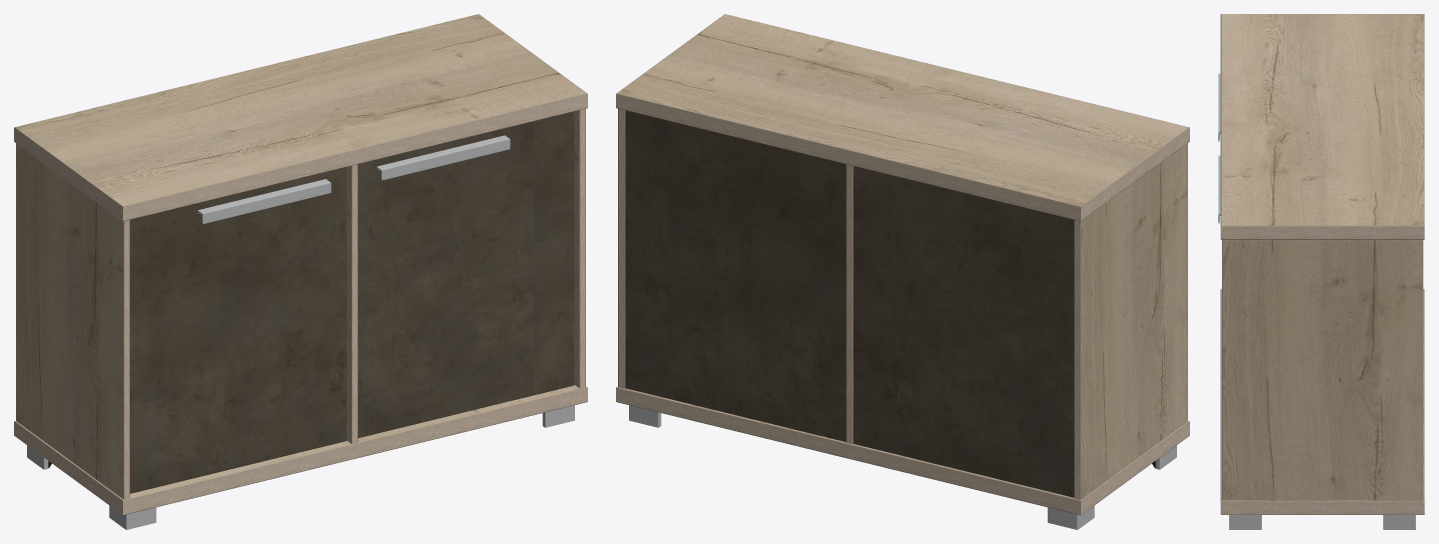
3 views of the same model, side by side, from view 1: azimuth 30°, elevation 25°; view 2: azimuth 150°, elevation 25°; view 3: azimuth 270°, elevation 25° (orthographic). The views are drawn at different scales.
Visible parts, largest first — view 1: Line1789532085, Line1789532095, Line1789532094, Line1789532088, Line1789532086, Line1789532087, Line1789532089, Plane996, Plane997, Object5776; view 2: Line1789532091, Line1789532090, Line1789532085, Line1789532088, Line1789532086, Line1789532087, Line1789532089, Object5777; view 3: Line1789532087, Line1789532085, Line1789532086, Object5778, Object5779.
Boxes of the visible parts, x1=… form: Line1789532085: x1=14, y1=14, x2=587, y2=221; Line1789532095: x1=358, y1=111, x2=574, y2=438; Line1789532094: x1=130, y1=167, x2=346, y2=493; Line1789532088: x1=16, y1=143, x2=129, y2=499; Line1789532086: x1=14, y1=385, x2=587, y2=515; Line1789532087: x1=574, y1=108, x2=585, y2=388; Line1789532089: x1=346, y1=164, x2=357, y2=443; Plane996: x1=197, y1=179, x2=331, y2=223; Plane997: x1=376, y1=135, x2=510, y2=180; Object5776: x1=109, y1=505, x2=156, y2=529; Line1789532091: x1=853, y1=166, x2=1073, y2=497; Line1789532090: x1=625, y1=110, x2=845, y2=441; Line1789532085: x1=616, y1=14, x2=1189, y2=221; Line1789532088: x1=1074, y1=143, x2=1187, y2=499; Line1789532086: x1=616, y1=386, x2=1189, y2=515; Line1789532087: x1=618, y1=108, x2=625, y2=388; Line1789532089: x1=846, y1=164, x2=853, y2=443; Object5777: x1=1047, y1=505, x2=1094, y2=529; Line1789532087: x1=1222, y1=240, x2=1423, y2=500; Line1789532085: x1=1220, y1=14, x2=1424, y2=239; Line1789532086: x1=1220, y1=289, x2=1424, y2=514; Object5778: x1=1229, y1=515, x2=1261, y2=529; Object5779: x1=1383, y1=515, x2=1415, y2=529.
Bounding box in the file's own units: 1.23 × 0.8317 × 0.5059.
Materials: 6 (5 with a texture image).
